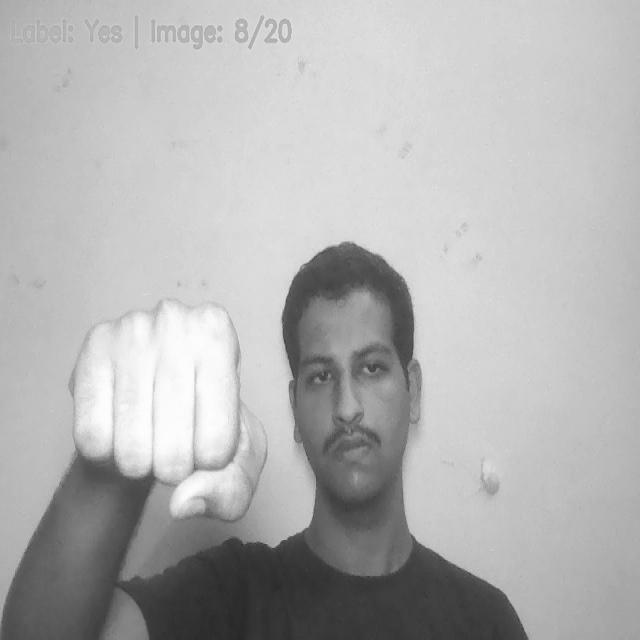Yes: (66, 286, 266, 530)
